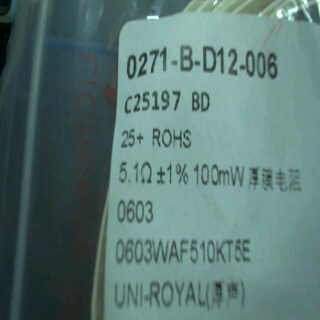5.1R: (117, 156, 155, 189)
